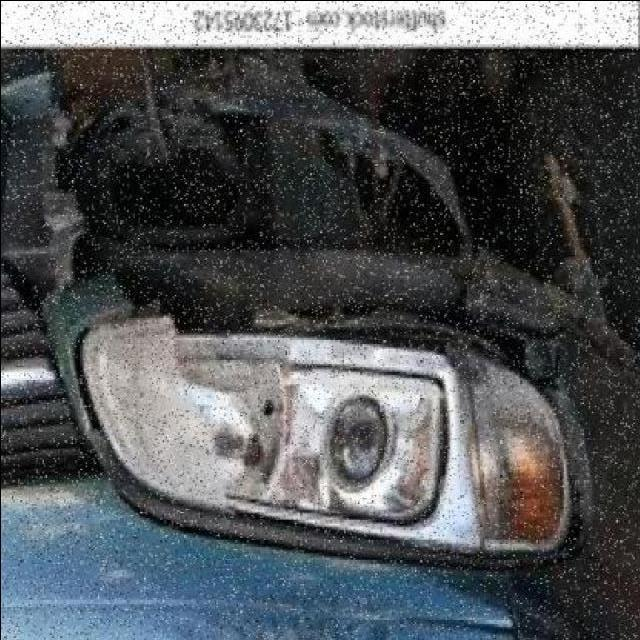Headlight-Damage: (56, 265, 602, 555)
